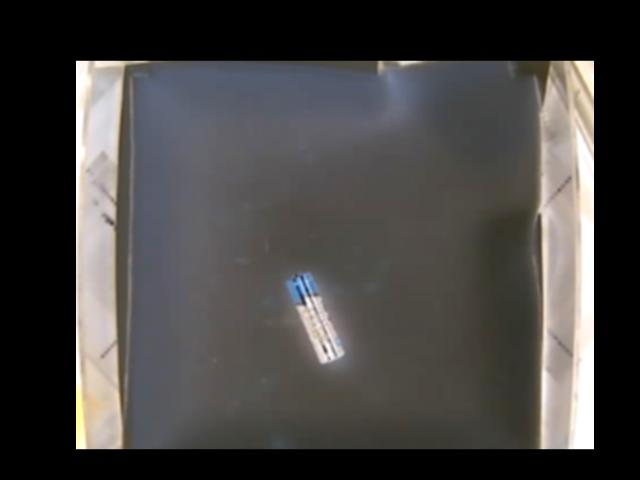Battery: (288, 272, 343, 362)
